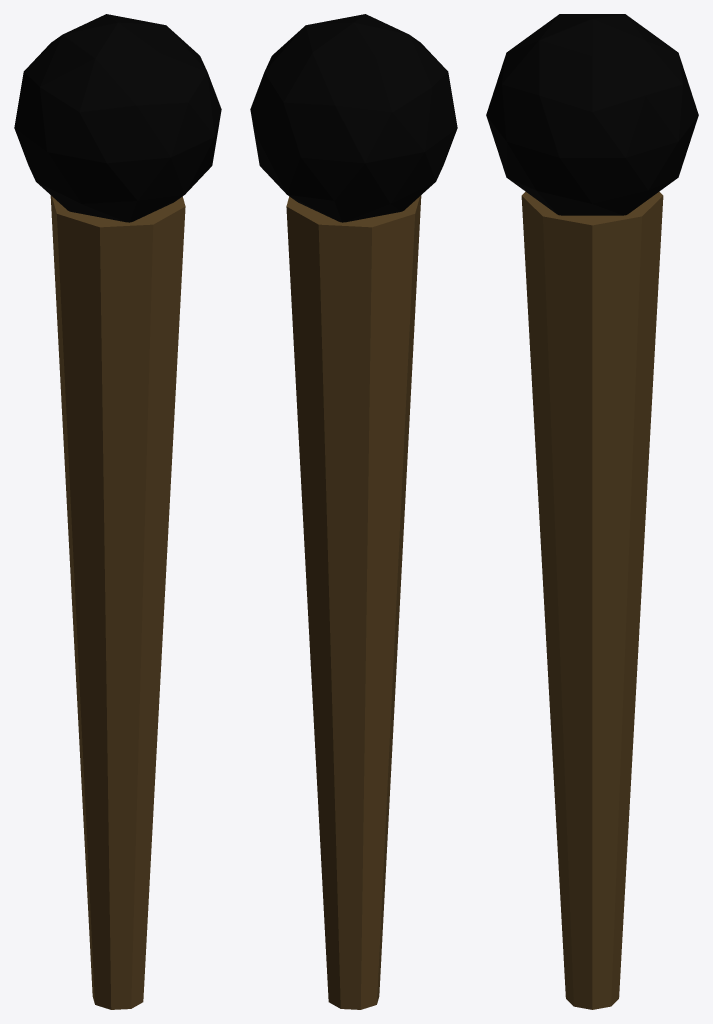
Rendered from torch.fbx.
3 views of the same model, side by side, from view 1: azimuth 30°, elevation 25°; view 2: azimuth 150°, elevation 25°; view 3: azimuth 270°, elevation 25° (orthographic).
Parts seen in each view (by area): view 1: Plane; view 2: Plane; view 3: Plane.
Part boxes in pixels (x1,y1,x2,y2): Plane: [14, 14, 221, 1009]; Plane: [250, 14, 457, 1009]; Plane: [486, 14, 698, 1009].
Bounding box in the file's own units: 457 × 2440 × 480.
